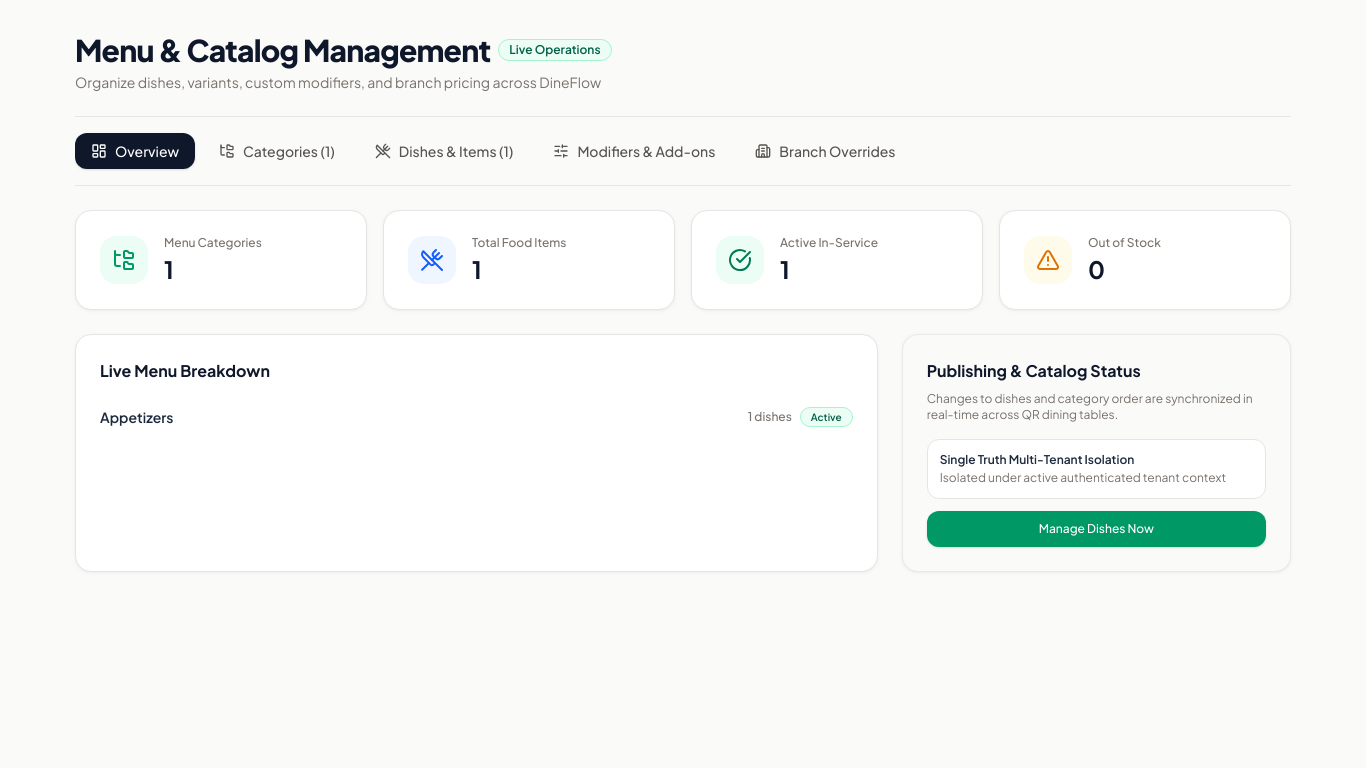
Test: MenuManagementPage Dashboard & Catalog UI › switches to Categories tab and allows opening creation form
The image size is (1366, 768).
Click the button "Categories (1)" at x=277, y=151, box [203,133,351,169]
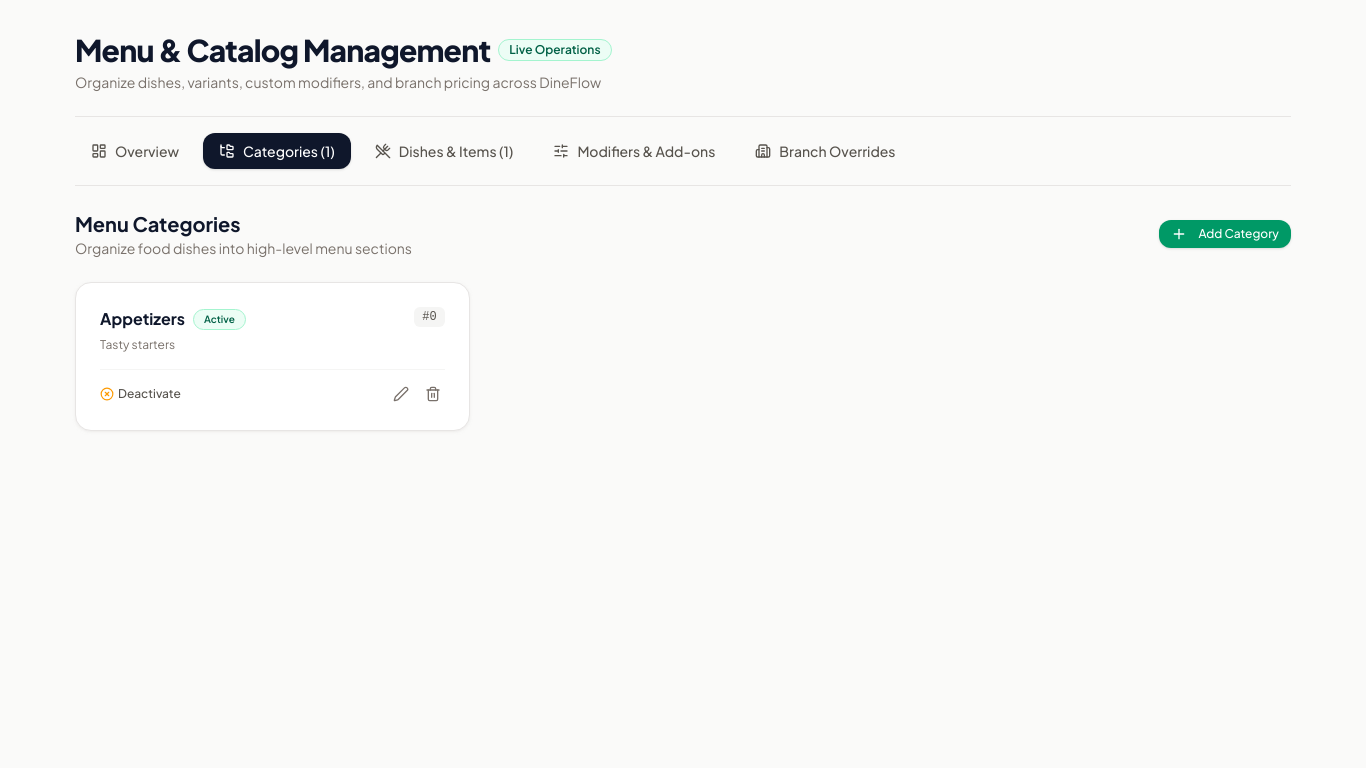
Expected: the heading "Menu Categories" is shown, [75,211,241,236]
Click the button "Add Category" at x=1225, y=234, box [1158,220,1291,248]
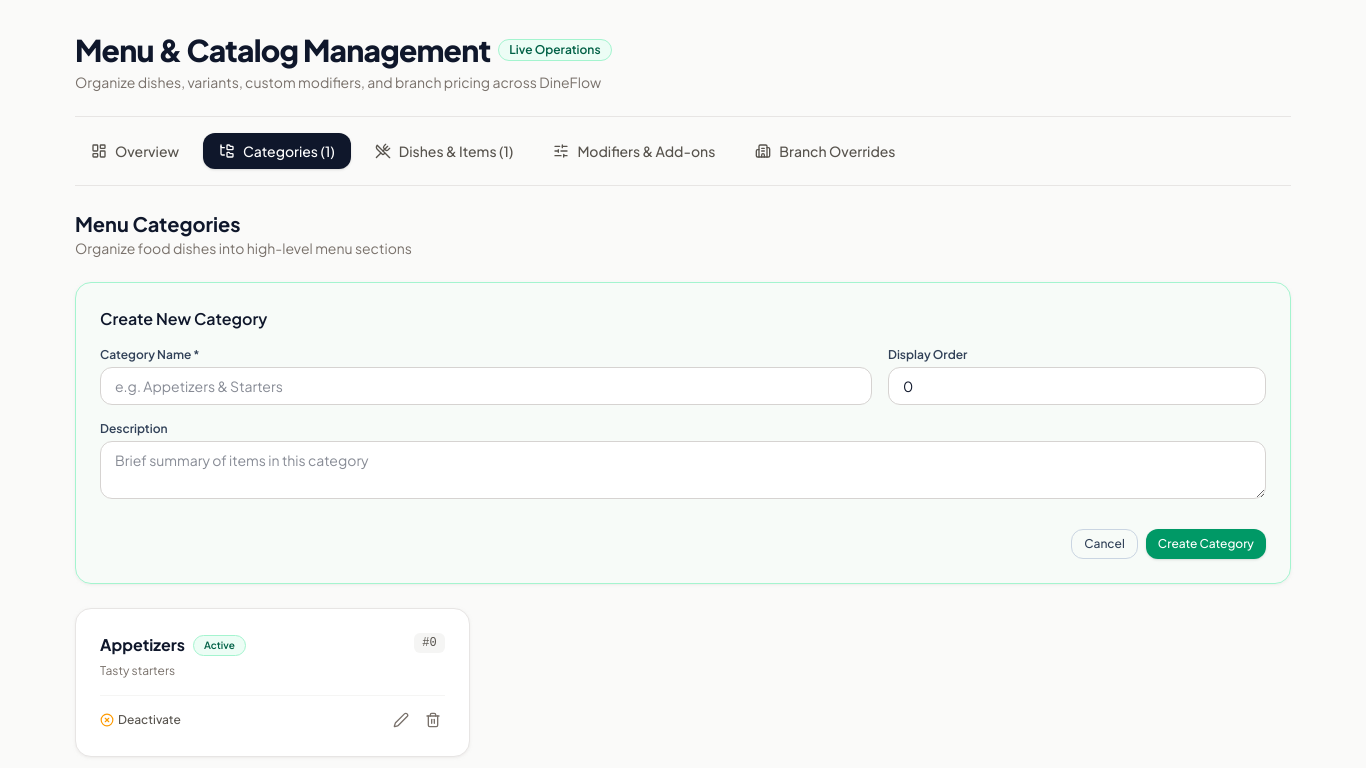
Expected: the field with placeholder "e.g. Appetizers & Starters" is shown, [100,367,872,405]
